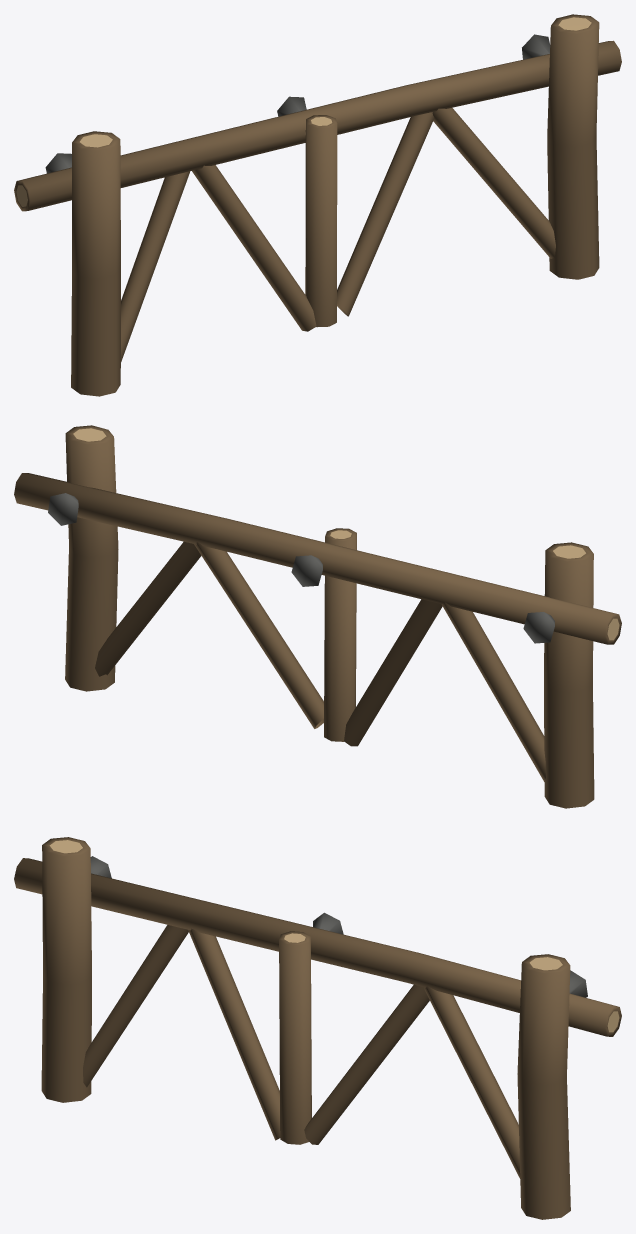
File: rpgpp_ag_fence_02c_2m.fbx
3 renders of one model, top to bottom at view 1: azimuth 30°, elevation 25°; view 2: azimuth 150°, elevation 25°; view 3: azimuth 330°, elevation 25°, orthographic.
Visible parts, largest first — view 1: rpgpp_ag_fence_02c_2m; view 2: rpgpp_ag_fence_02c_2m; view 3: rpgpp_ag_fence_02c_2m.
Boxes of the visible parts, left/top/right/bottom form: rpgpp_ag_fence_02c_2m: left=14, top=14, right=621, bottom=396; rpgpp_ag_fence_02c_2m: left=14, top=425, right=621, bottom=808; rpgpp_ag_fence_02c_2m: left=14, top=837, right=621, bottom=1219.
Bounding box in the file's own units: 4.39 × 1.74 × 0.5847.
